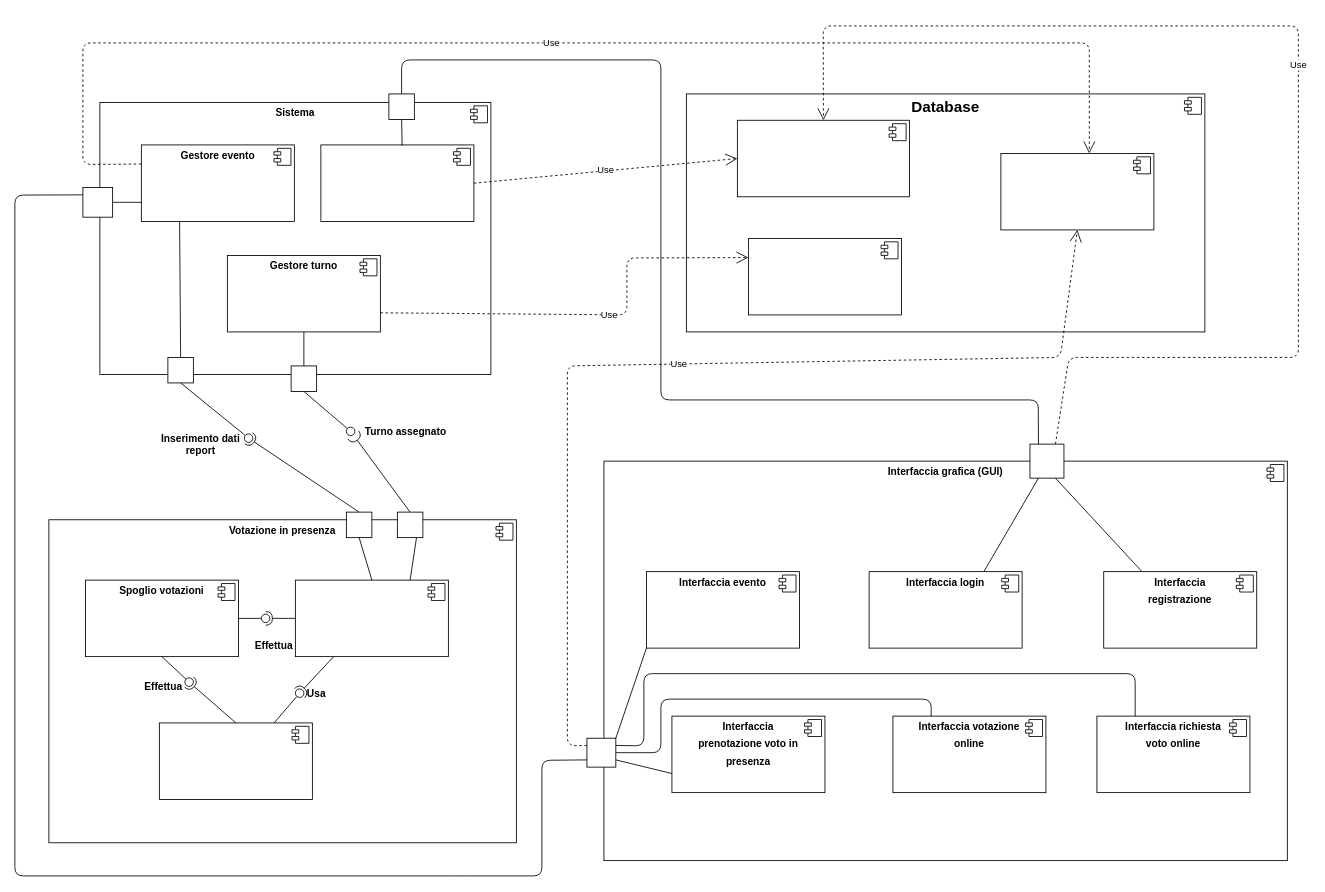
The diagram is 1325 pixels wide and 892 high, and some of its shapes have lost their labels. Here are the shapes that lost their labels. From the top down, the centre of each, then its label:
the point at 823,158: Gestione dati utenze
the point at 397,182: Gestore utente
the point at 1077,191: Gestione dati eventi
the point at 824,276: Gestione dati turni
the point at 371,618: Operatore di seggio
the point at 235,760: Scanner
